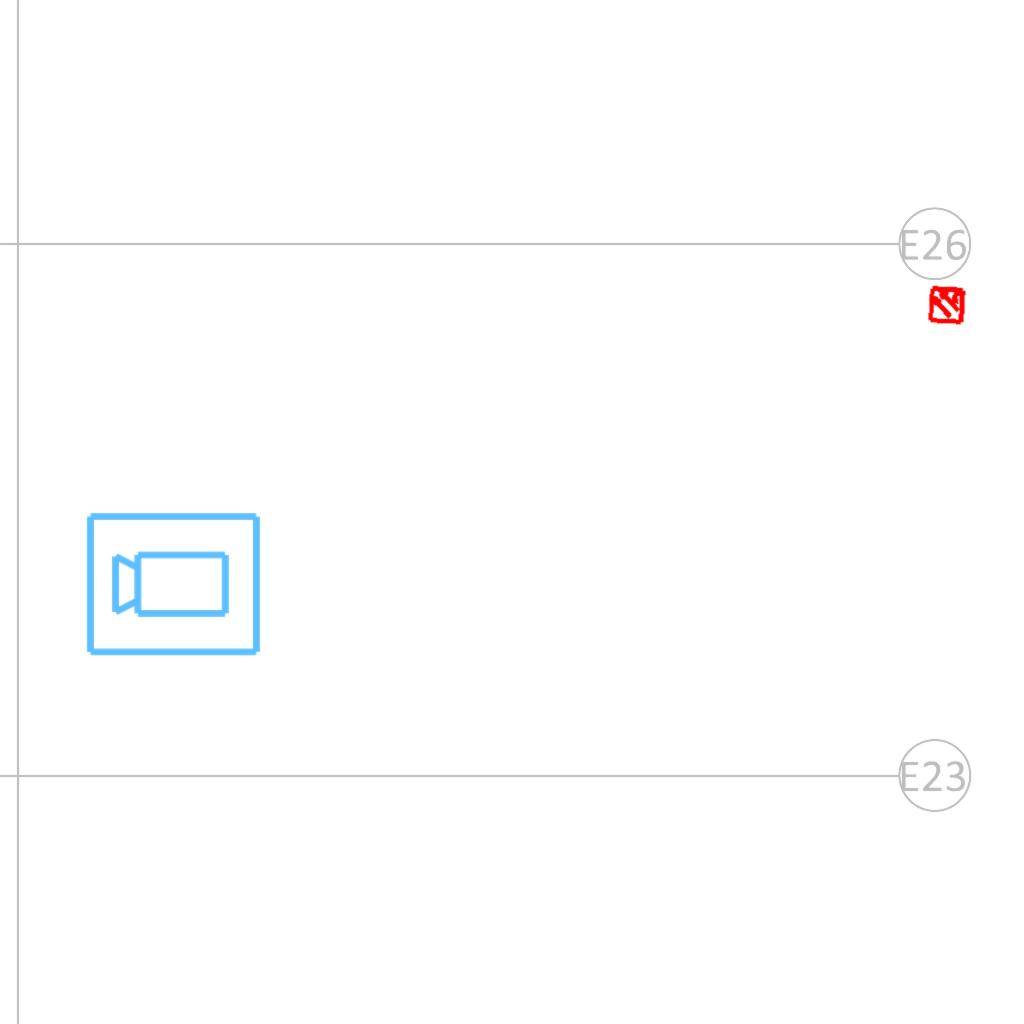KFO_Kamera_mit_Festobjektiv: (83, 506, 265, 660)
OT_Multisensormelder_(Kombination_RMO_WMD): (917, 274, 977, 334)
